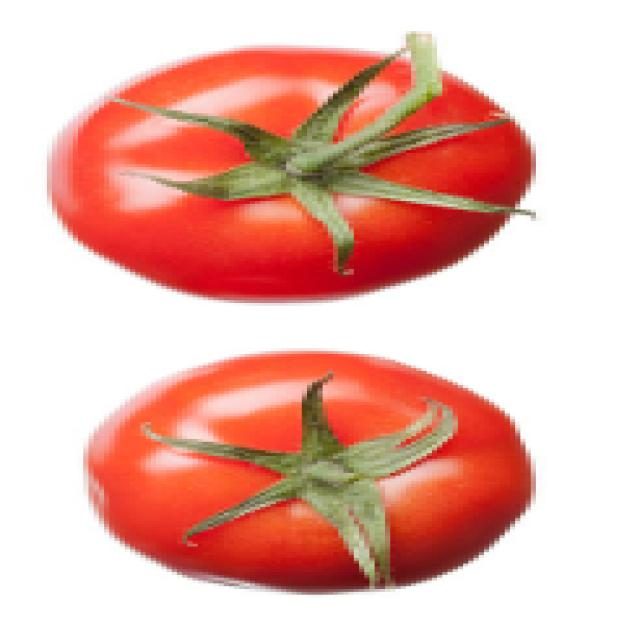Tomato: (53, 34, 543, 298), (84, 347, 530, 604)
